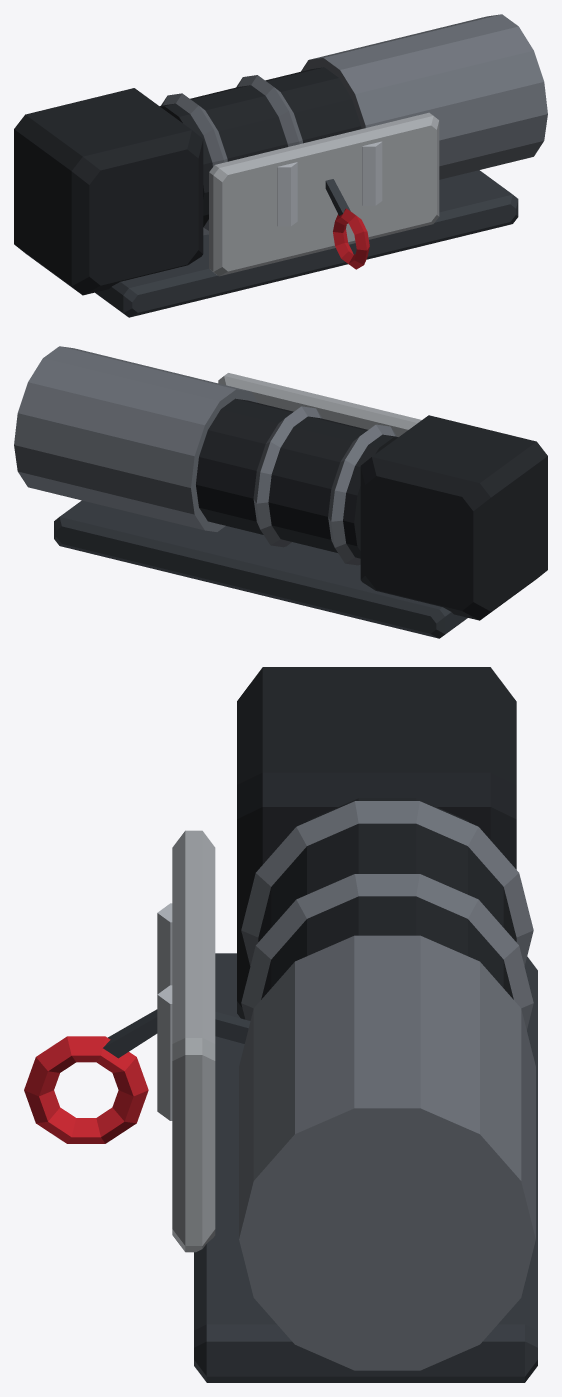
The model's file is ridgeback_4x4_winch.glb.
3 views of the same model, one above another, from view 1: azimuth 30°, elevation 25°; view 2: azimuth 150°, elevation 25°; view 3: azimuth 270°, elevation 25° (orthographic). The views are drawn at different scales.
Visible parts, largest first — view 1: model; view 2: model; view 3: model.
Boxes of the visible parts, box(x1,y1,x2,y2) form: model: box(14, 14, 547, 317); model: box(14, 346, 547, 638); model: box(24, 667, 537, 1382).
Size of the model in its own units: 0.5 by 0.1623 by 0.239.
2 materials, 1 textured.
